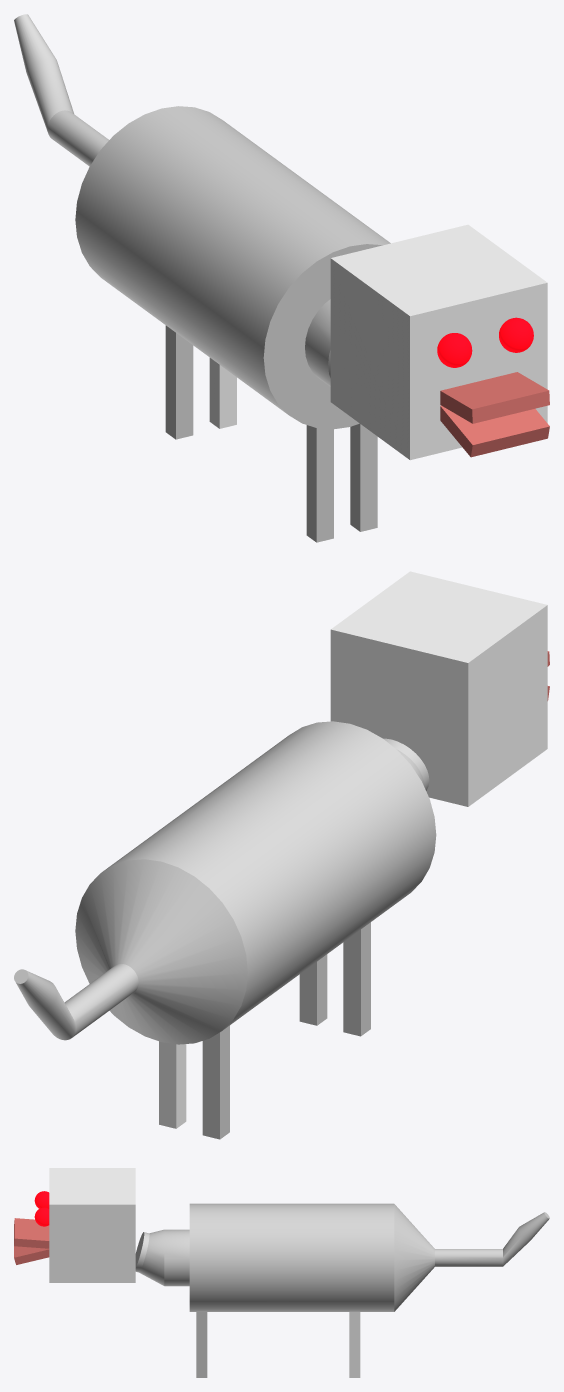
The model's file is dog.glb.
3 renders of one model, top to bottom at view 1: azimuth 30°, elevation 25°; view 2: azimuth 150°, elevation 25°; view 3: azimuth 270°, elevation 25°, orthographic. The views are drawn at different scales.
Visible parts, largest first — view 1: Cylinder, Cube, Cube.002, Cube.001, Cube.004, Cube.006, Cube.003, Cube.005, Sphere, Sphere.001; view 2: Cylinder, Cube, Cube.006, Cube.004, Cube.005, Cube.003; view 3: Cylinder, Cube, Cube.002, Cube.003, Cube.005, Cube.001.
Part boxes in pixels (left/top/right/bottom): Cylinder: left=14, top=14, right=390, bottom=429; Cube: left=330, top=224, right=547, bottom=460; Cube.002: left=440, top=372, right=549, bottom=423; Cube.001: left=440, top=405, right=549, bottom=457; Cube.004: left=306, top=425, right=333, bottom=542; Cube.006: left=165, top=325, right=193, bottom=439; Cube.003: left=350, top=423, right=377, bottom=531; Cube.005: left=209, top=358, right=236, bottom=428; Sphere: left=437, top=333, right=472, bottom=367; Sphere.001: left=499, top=317, right=533, bottom=352; Cylinder: left=14, top=721, right=436, bottom=1044; Cube: left=330, top=571, right=547, bottom=806; Cube.006: left=202, top=1025, right=229, bottom=1139; Cube.004: left=343, top=922, right=370, bottom=1036; Cube.005: left=159, top=1041, right=186, bottom=1128; Cube.003: left=299, top=954, right=327, bottom=1025; Cylinder: left=135, top=1203, right=549, bottom=1311; Cube: left=49, top=1168, right=135, bottom=1282; Cube.002: left=14, top=1218, right=49, bottom=1248; Cube.003: left=196, top=1312, right=207, bottom=1377; Cube.005: left=349, top=1312, right=360, bottom=1377; Cube.001: left=14, top=1246, right=49, bottom=1264.
Size of the model in its own units: 1.08 by 2 by 5.33.
